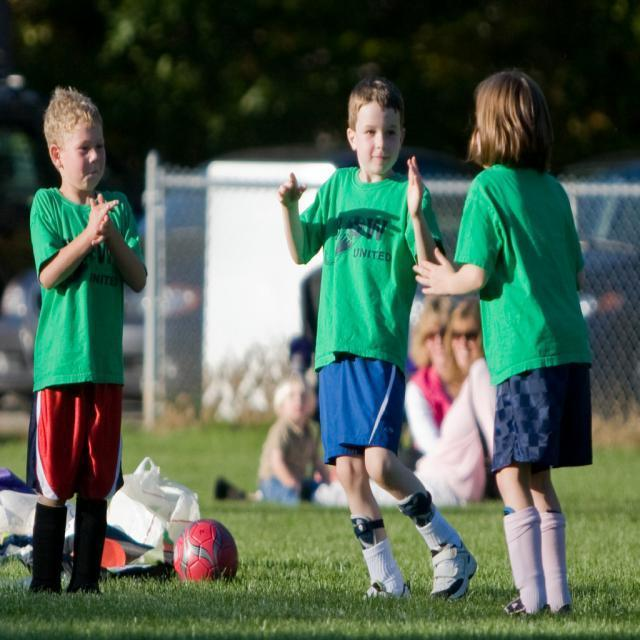football: (168, 507, 257, 589)
